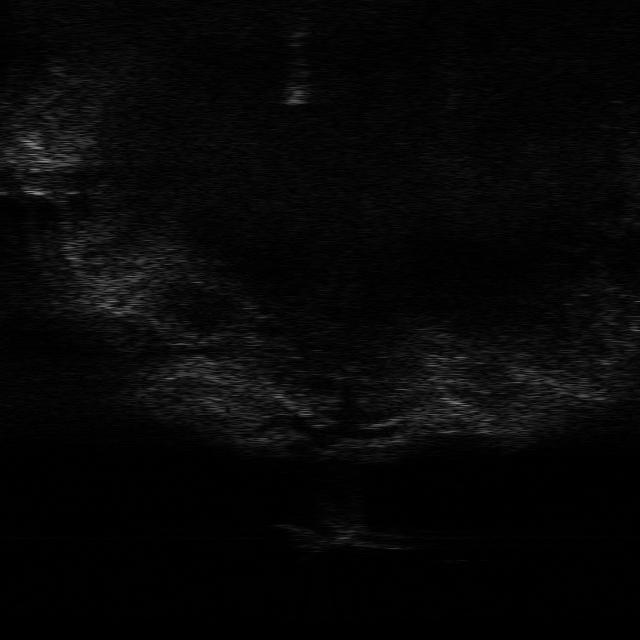plane: (275, 519, 410, 552)
